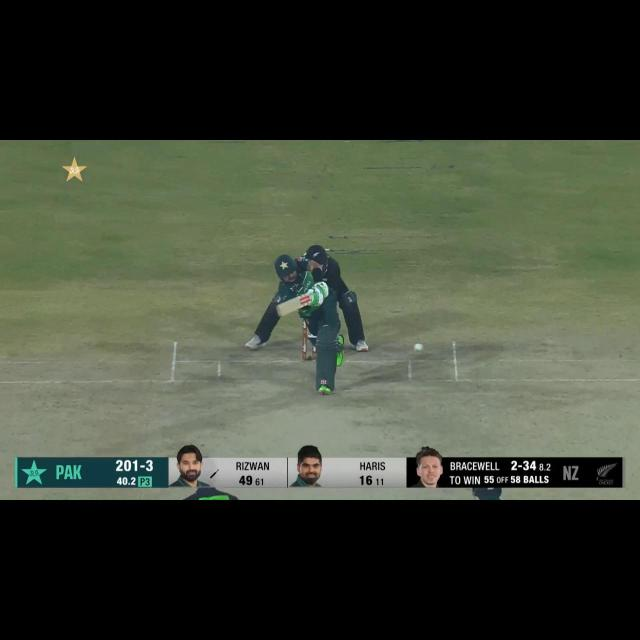bat: (277, 289, 317, 318)
toe: (276, 303, 287, 318)
